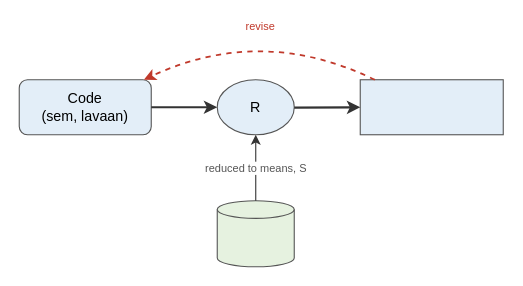
Some shapes in this 523 by 286 pixel diagram are drawn without their labels. Each missing label, with the box of its shape:
Data: (216, 200, 294, 267)
Output (estimates, fit): (359, 79, 503, 135)
